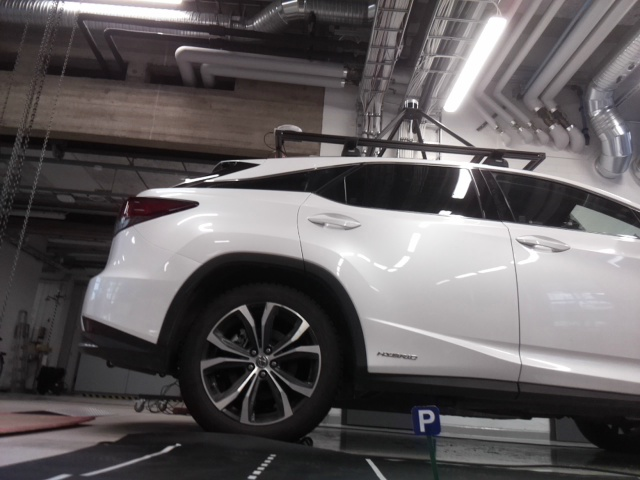Parking: (409, 406, 441, 436)
